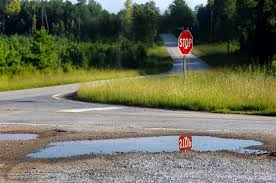stop_sign: (177, 30, 193, 55)
